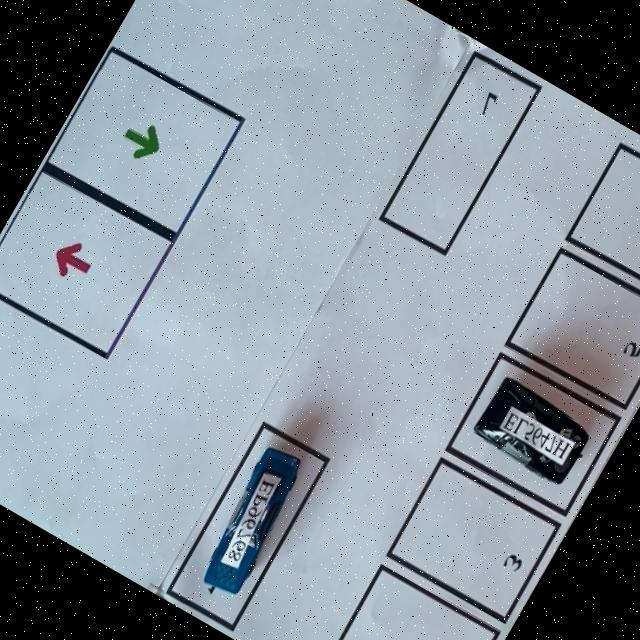car: (204, 448, 300, 594), (475, 377, 588, 484)
